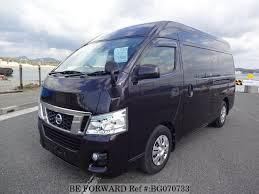Van: (37, 18, 236, 174)
